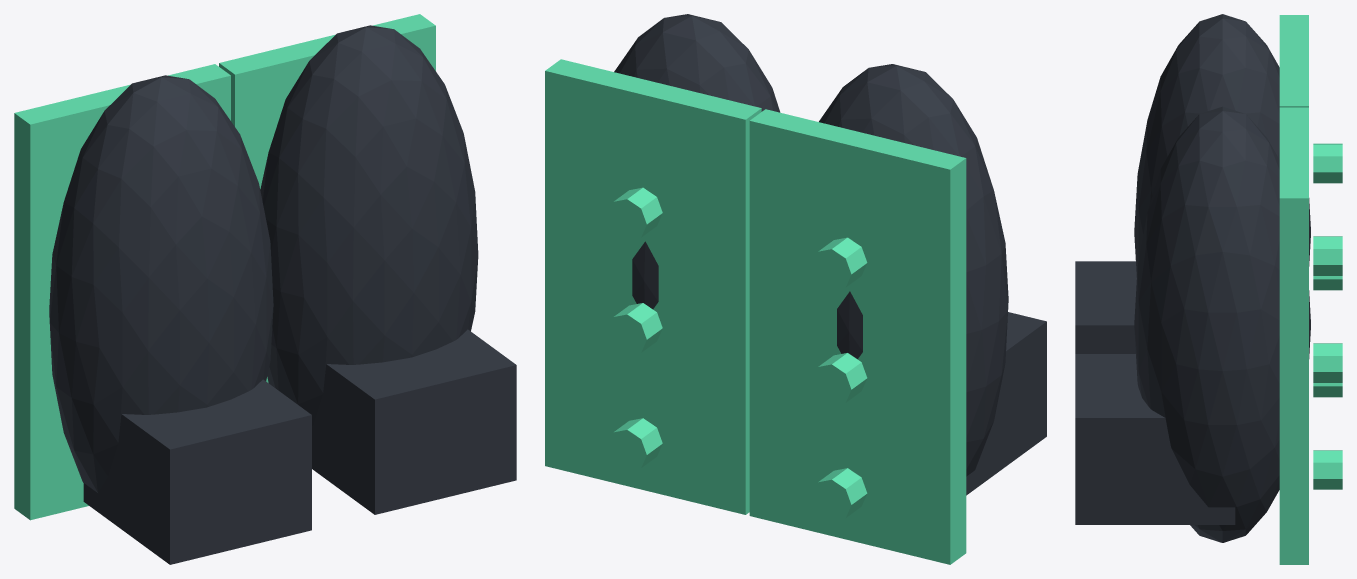
File: Pro_Boots_3D.glb
The picture shows the model from 3 angles, left to right: view 1: azimuth 30°, elevation 25°; view 2: azimuth 150°, elevation 25°; view 3: azimuth 270°, elevation 25°; orthographic projection. The views are drawn at different scales.
Parts seen in each view (by area): view 1: ProBoots_0, ProBoots_6, ProBoots_1, ProBoots_7, ProBoots_2, ProBoots_8; view 2: ProBoots_2, ProBoots_8, ProBoots_0, ProBoots_6, ProBoots_1, ProBoots_5, ProBoots_3, ProBoots_4, ProBoots_11, ProBoots_9, ProBoots_10; view 3: ProBoots_6, ProBoots_7, ProBoots_8, ProBoots_0, ProBoots_1, ProBoots_2, ProBoots_5, ProBoots_9, ProBoots_10, ProBoots_11, ProBoots_3, ProBoots_4.
Boxes of the visible parts, <box> form: ProBoots_0: <box>49,75,273,492</box>; ProBoots_6: <box>260,25,478,427</box>; ProBoots_1: <box>83,379,311,564</box>; ProBoots_7: <box>312,329,516,514</box>; ProBoots_2: <box>14,64,230,520</box>; ProBoots_8: <box>219,14,435,382</box>; ProBoots_2: <box>749,109,966,564</box>; ProBoots_8: <box>545,59,761,514</box>; ProBoots_0: <box>819,64,1008,476</box>; ProBoots_6: <box>614,14,780,309</box>; ProBoots_1: <box>966,312,1046,495</box>; ProBoots_5: <box>812,237,867,290</box>; ProBoots_3: <box>812,468,867,520</box>; ProBoots_4: <box>812,353,867,405</box>; ProBoots_11: <box>607,187,662,240</box>; ProBoots_9: <box>607,418,662,470</box>; ProBoots_10: <box>607,303,662,355</box>; ProBoots_6: <box>1134,106,1310,542</box>; ProBoots_7: <box>1075,354,1235,524</box>; ProBoots_8: <box>1279,107,1308,564</box>; ProBoots_0: <box>1134,14,1310,277</box>; ProBoots_1: <box>1075,261,1136,353</box>; ProBoots_2: <box>1279,15,1308,107</box>; ProBoots_5: <box>1313,143,1342,183</box>; ProBoots_9: <box>1313,450,1342,489</box>; ProBoots_10: <box>1313,343,1342,382</box>; ProBoots_11: <box>1313,236,1342,275</box>; ProBoots_3: <box>1313,383,1342,397</box>; ProBoots_4: <box>1313,276,1342,290</box>.
Bounding box in the file's own units: 0.52 × 0.56 × 0.3175.
